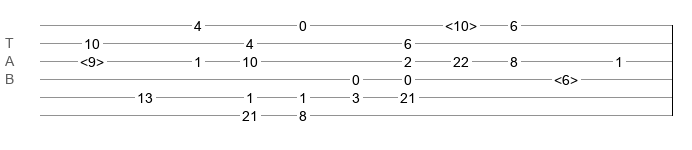0: (299, 18, 307, 28), (352, 72, 360, 82), (404, 72, 412, 82)
1: (194, 54, 202, 64), (246, 90, 254, 100), (299, 90, 307, 100), (615, 54, 623, 64)
10: (84, 36, 100, 46), (242, 54, 258, 64)
13: (137, 90, 153, 100)
2: (404, 54, 412, 64)
21: (242, 108, 258, 118), (400, 90, 416, 100)
22: (453, 54, 469, 64)
3: (352, 90, 360, 100)
4: (194, 18, 202, 28), (246, 36, 254, 46)
6: (404, 36, 412, 46), (510, 18, 518, 28)
8: (299, 108, 307, 118), (510, 54, 518, 64)
harmonic: (445, 18, 477, 28), (80, 54, 104, 64), (554, 72, 578, 82)
